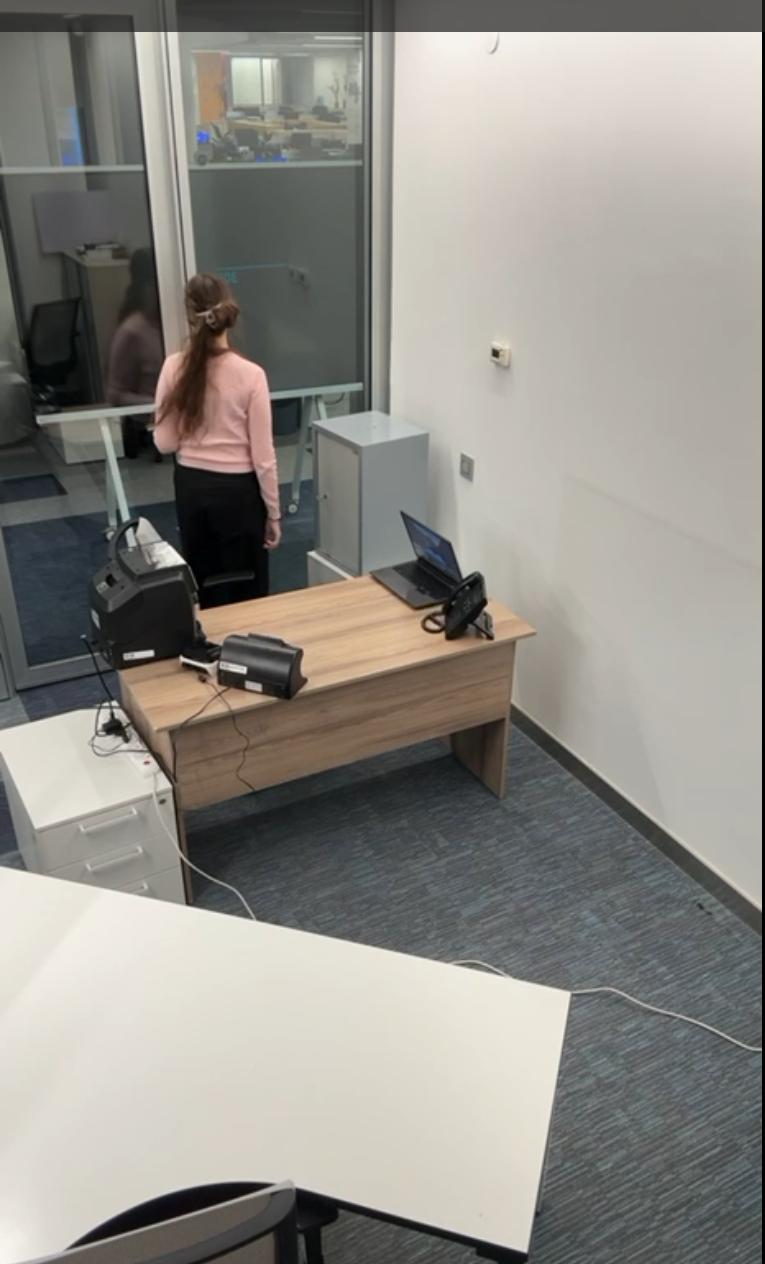counter: (84, 538, 202, 666)
key_in: (312, 479, 338, 524)
screen_locked: (404, 523, 456, 578)
uv_lamp: (216, 622, 309, 703)
